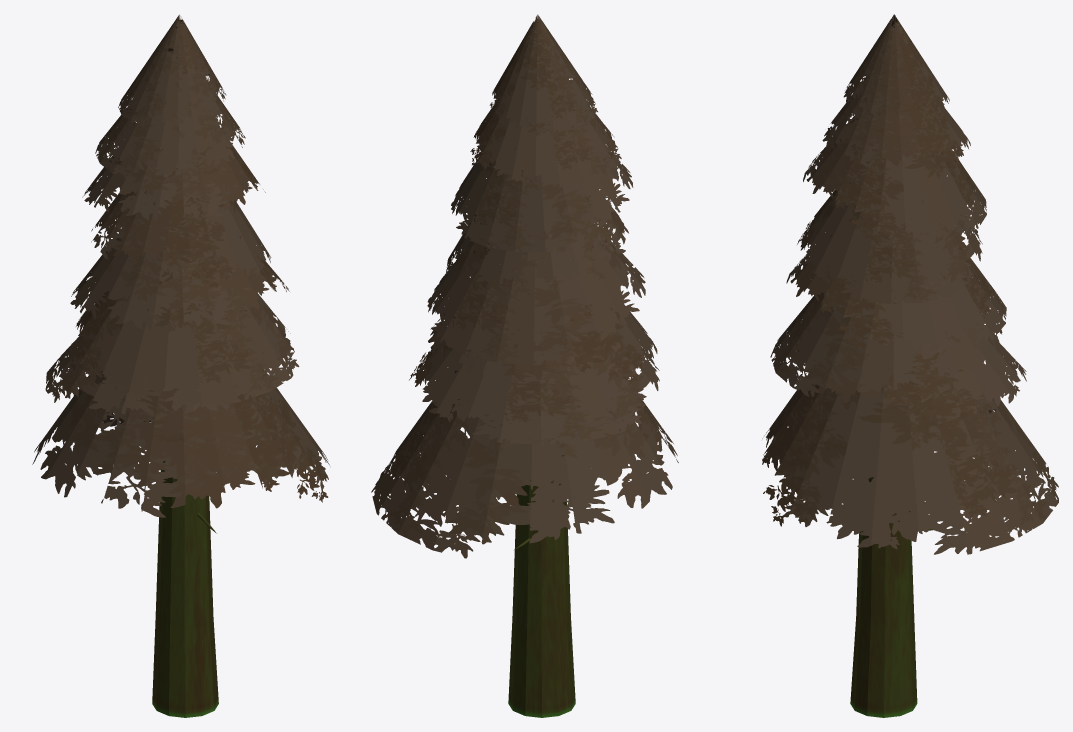
File: Tree 2.fbx
3 renders of one model, left to right at view 1: azimuth 30°, elevation 25°; view 2: azimuth 150°, elevation 25°; view 3: azimuth 270°, elevation 25°, orthographic.
Parts seen in each view (by area): view 1: tree1; view 2: tree1; view 3: tree1.
Boxes of the visible parts, box(x1,y1,x2,y2) form: tree1: box(32, 14, 330, 717); tree1: box(371, 14, 678, 717); tree1: box(762, 14, 1058, 717).
Bounding box in the file's own units: 9.25 × 21.53 × 9.25.
